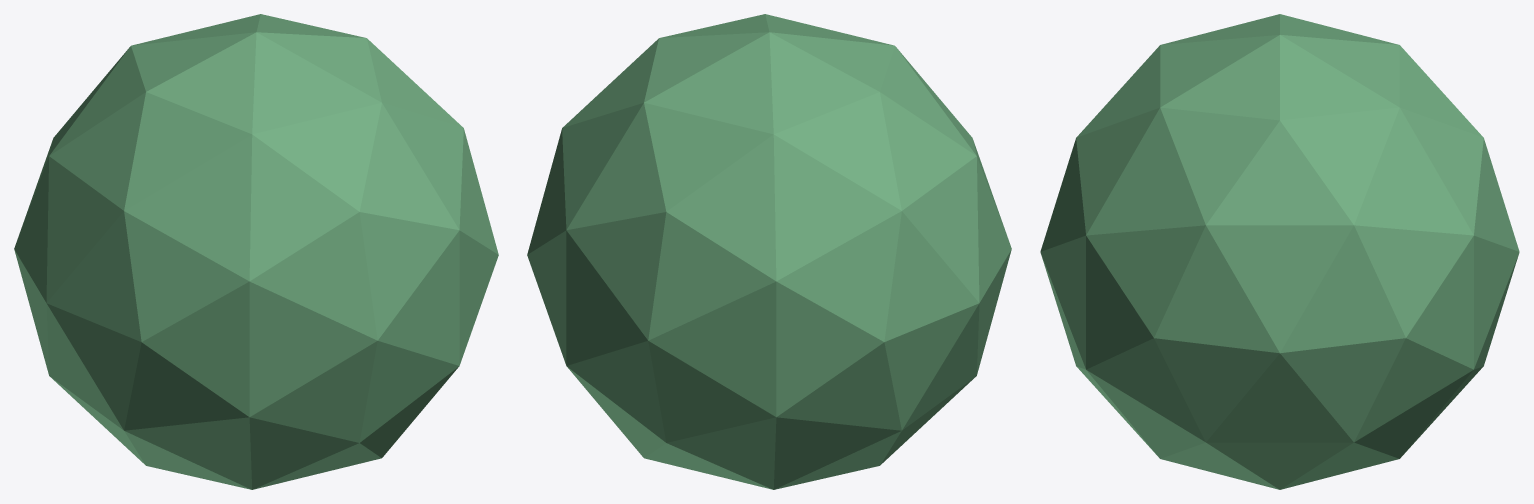
The model's file is bush_flowers.glb.
3 views of the same model, side by side, from view 1: azimuth 30°, elevation 25°; view 2: azimuth 150°, elevation 25°; view 3: azimuth 270°, elevation 25° (orthographic).
Parts seen in each view (by area): view 1: world; view 2: world; view 3: world.
Boxes of the visible parts, x1,y1,x2,y2 form: world: (14,14,498,489); world: (527,14,1011,489); world: (1040,14,1519,489).
Bounding box in the file's own units: 1 × 1 × 1.
